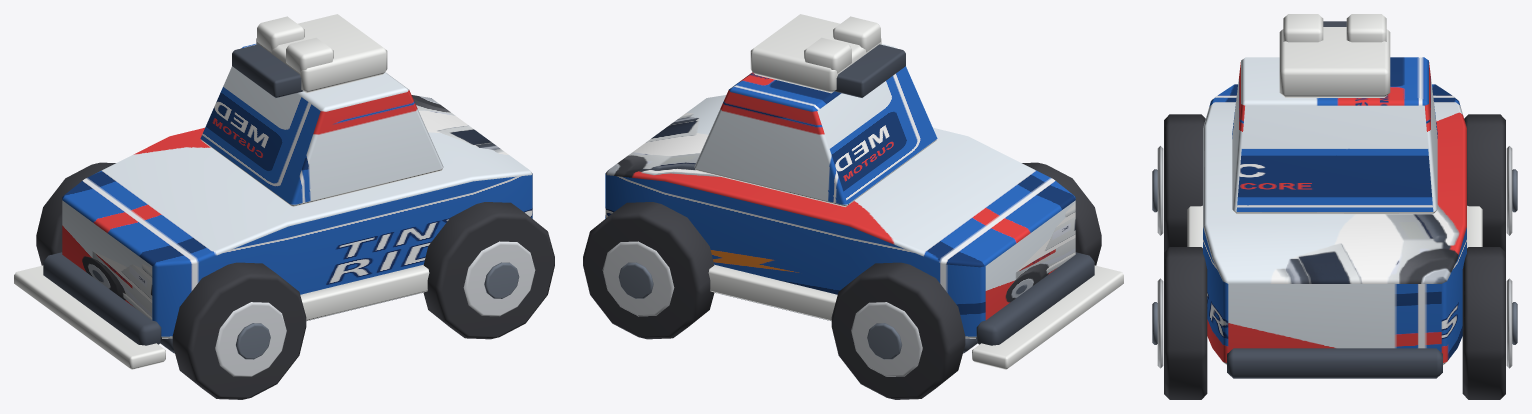
3 renders of one model, left to right at view 1: azimuth 30°, elevation 25°; view 2: azimuth 150°, elevation 25°; view 3: azimuth 270°, elevation 25°, orthographic. The views are drawn at different scales.
Visible parts, largest first — view 1: RC-02_connected_shell, RC-02_cabin, Tire, Tire.002, custom equipment, custom chin, front bumper, custom side guard, Rim.002, Rim, beacon mount, Tire.001 (+4 smaller); view 2: RC-02_connected_shell, RC-02_cabin, Tire.001, Tire.003, custom equipment, custom chin, front bumper, custom side guard.001, Rim.003, Rim.001, beacon mount, Tire (+4 smaller); view 3: RC-02_connected_shell, RC-02_cabin, custom equipment, rear bumper, Tire.002, Tire.003, Tire, Tire.001, beacon lens, beacon lens.001, custom side guard, custom side guard.001 (+4 smaller).
Boxes of the visible parts, x1,y1,x2,y2 form: RC-02_connected_shell: [62, 95, 532, 338]; RC-02_cabin: [200, 44, 443, 206]; Tire: [172, 262, 306, 399]; Tire.002: [423, 202, 554, 339]; custom equipment: [256, 14, 387, 93]; custom chin: [14, 265, 165, 369]; front bumper: [43, 252, 161, 345]; custom side guard: [300, 264, 429, 320]; Rim.002: [463, 241, 535, 316]; Rim: [215, 302, 286, 376]; beacon mount: [232, 44, 303, 97]; Tire.001: [36, 162, 115, 265]; RC-02_connected_shell: [605, 95, 1075, 338]; RC-02_cabin: [694, 44, 937, 206]; Tire.001: [831, 262, 965, 399]; Tire.003: [583, 202, 714, 339]; custom equipment: [750, 14, 881, 93]; custom chin: [972, 265, 1123, 369]; front bumper: [976, 252, 1094, 345]; custom side guard.001: [708, 264, 837, 320]; Rim.003: [602, 241, 674, 316]; Rim.001: [851, 302, 922, 376]; beacon mount: [834, 44, 905, 97]; Tire: [1022, 162, 1101, 265]; RC-02_connected_shell: [1203, 84, 1466, 364]; RC-02_cabin: [1232, 57, 1437, 214]; custom equipment: [1279, 27, 1390, 97]; rear bumper: [1227, 348, 1442, 378]; Tire.002: [1164, 247, 1207, 399]; Tire.003: [1462, 247, 1505, 399]; Tire: [1164, 114, 1205, 252]; Tire.001: [1464, 114, 1505, 252]; beacon lens: [1283, 14, 1323, 42]; beacon lens.001: [1346, 14, 1386, 42]; custom side guard: [1187, 205, 1202, 247]; custom side guard.001: [1467, 205, 1482, 247].
Size of the model in its own units: 322 by 201 by 219.
